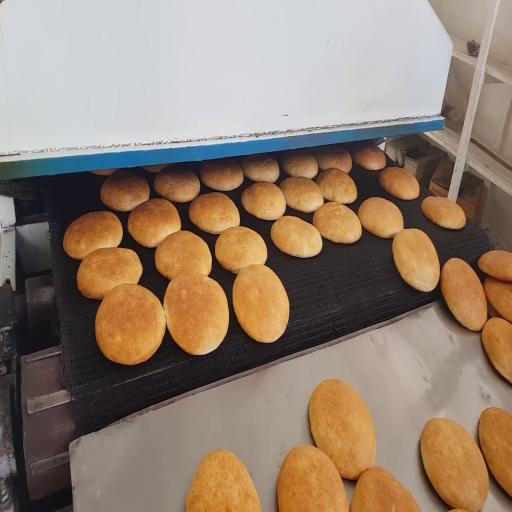bread: (309, 380, 376, 479), (420, 419, 488, 511), (96, 284, 165, 365), (164, 273, 229, 355), (278, 446, 349, 511), (186, 451, 261, 511), (233, 265, 289, 342), (441, 258, 487, 331), (77, 248, 142, 299), (351, 467, 420, 511), (392, 229, 439, 292), (63, 211, 122, 259), (479, 408, 511, 496), (155, 231, 211, 279), (128, 198, 181, 247), (215, 227, 267, 273), (189, 192, 239, 234), (271, 216, 322, 257), (101, 170, 149, 211), (313, 202, 361, 243), (482, 318, 511, 383), (358, 197, 403, 238), (242, 183, 286, 220), (154, 167, 200, 202), (280, 177, 323, 212), (422, 196, 466, 229), (316, 168, 357, 203), (200, 159, 243, 191), (379, 167, 419, 200), (484, 277, 511, 322), (241, 155, 279, 182), (478, 250, 511, 281), (282, 150, 318, 178), (316, 147, 351, 173), (353, 145, 386, 170), (143, 164, 172, 173), (487, 300, 501, 318), (92, 169, 117, 176)
